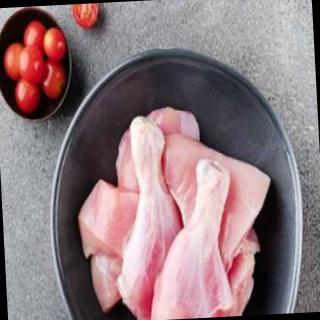Ayam: (71, 99, 279, 320)
Tomat: (1, 18, 73, 117)
